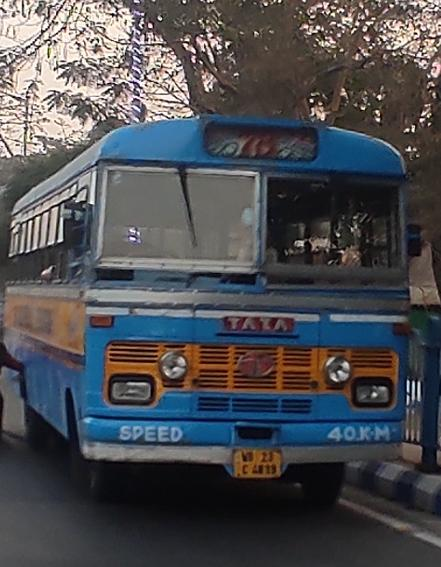Bus: (5, 109, 414, 524)
